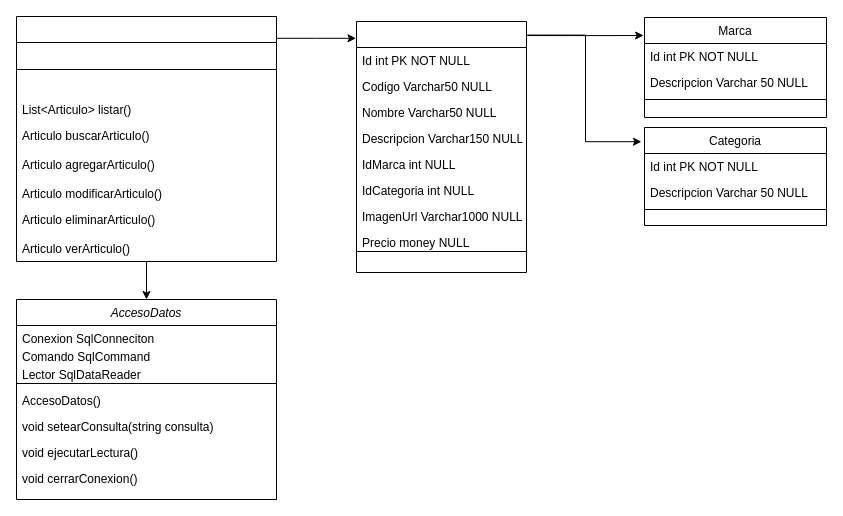
This 843x516 diagram has some shape labels left out. The shapes that lost their labels are listed below. From the top down, each one's box as (x1, y1, x2, y2) in pixels, then its label:
(16, 16, 276, 262): ArticuloNegocio
(356, 20, 526, 272): Articulo
